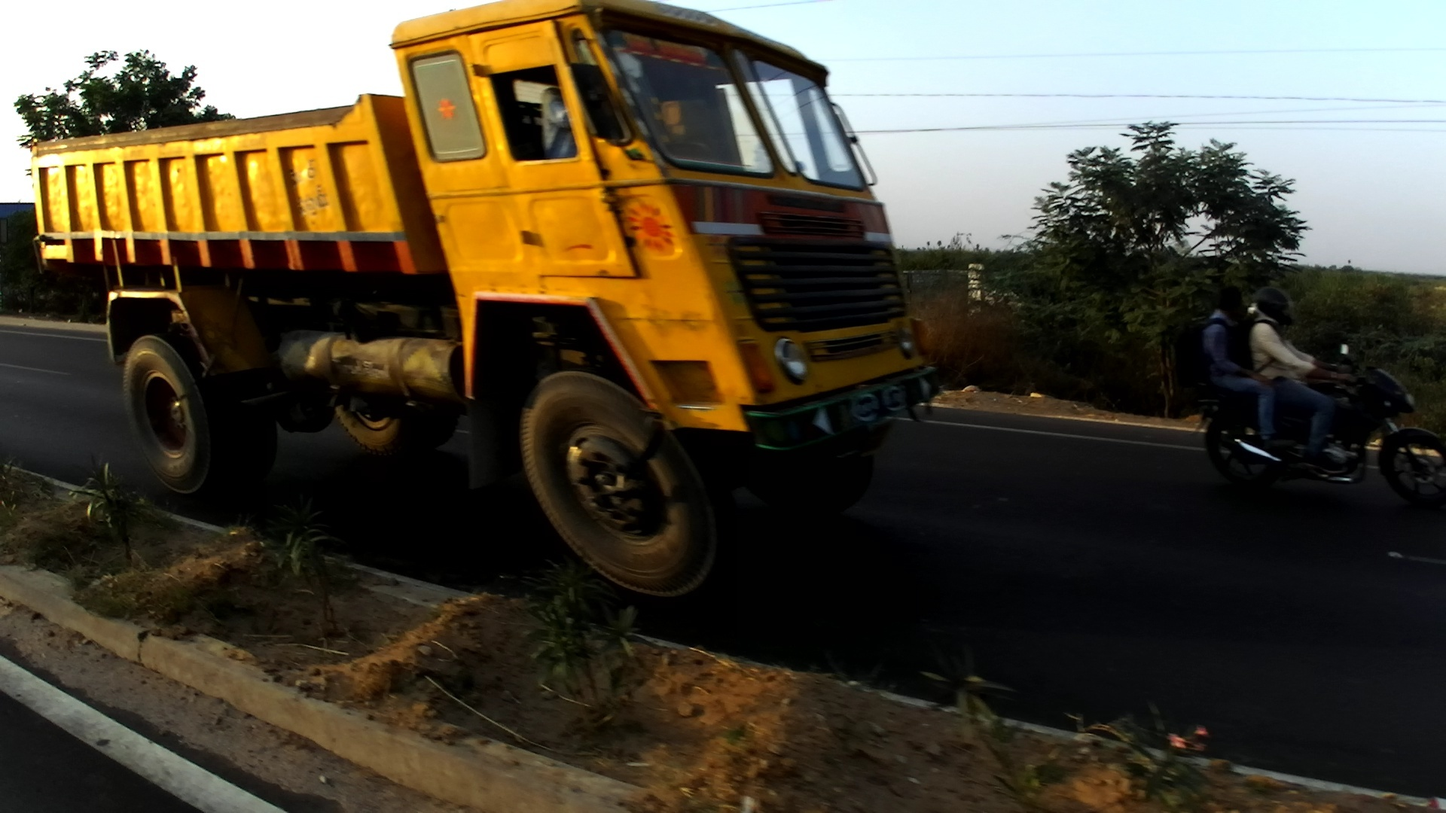motorcycle: (1184, 341, 1446, 507)
rider: (1246, 287, 1351, 473), (1203, 285, 1285, 460)
truck: (26, 1, 943, 602)
